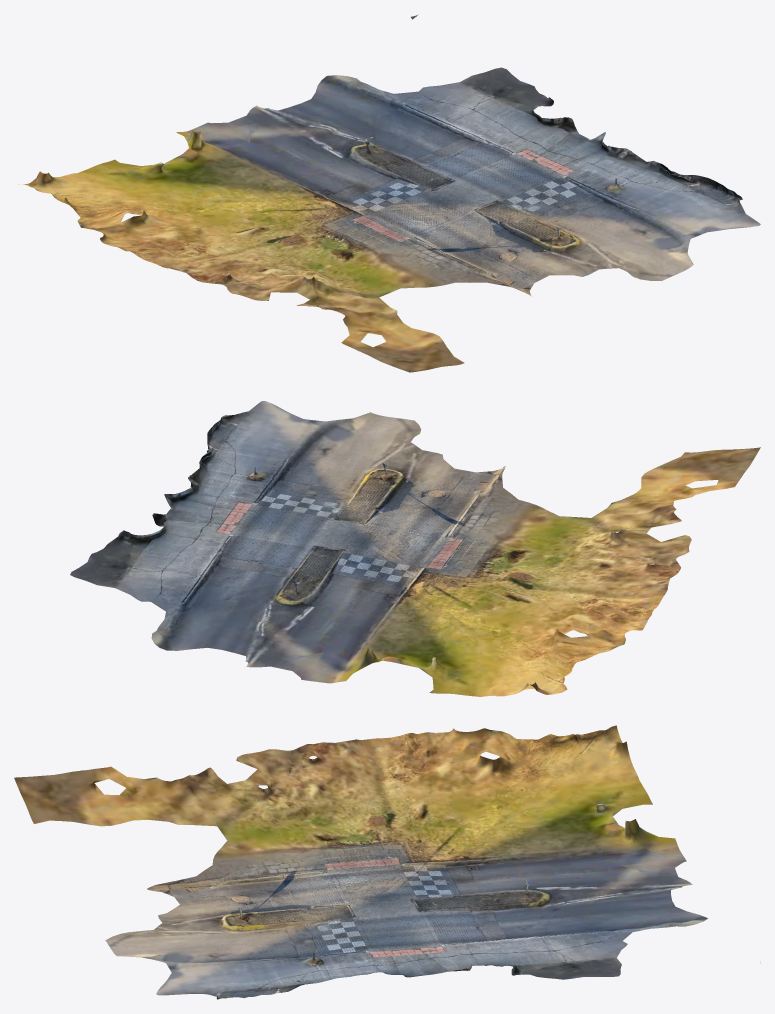
The model's file is IcelandSeeing-transformed.glb.
3 renders of one model, top to bottom at view 1: azimuth 30°, elevation 25°; view 2: azimuth 150°, elevation 25°; view 3: azimuth 270°, elevation 25°, orthographic. The views are drawn at different scales.
Visible parts, largest first — view 1: Mesh_0; view 2: Mesh_0; view 3: Mesh_0.
Part boxes in pixels (bbox=[...]): Mesh_0: bbox=[18, 14, 760, 372]; Mesh_0: bbox=[70, 401, 760, 696]; Mesh_0: bbox=[14, 725, 707, 999].
Bounding box in the file's own units: 27.61 × 1.08 × 32.48.
1 material, 1 textured.
